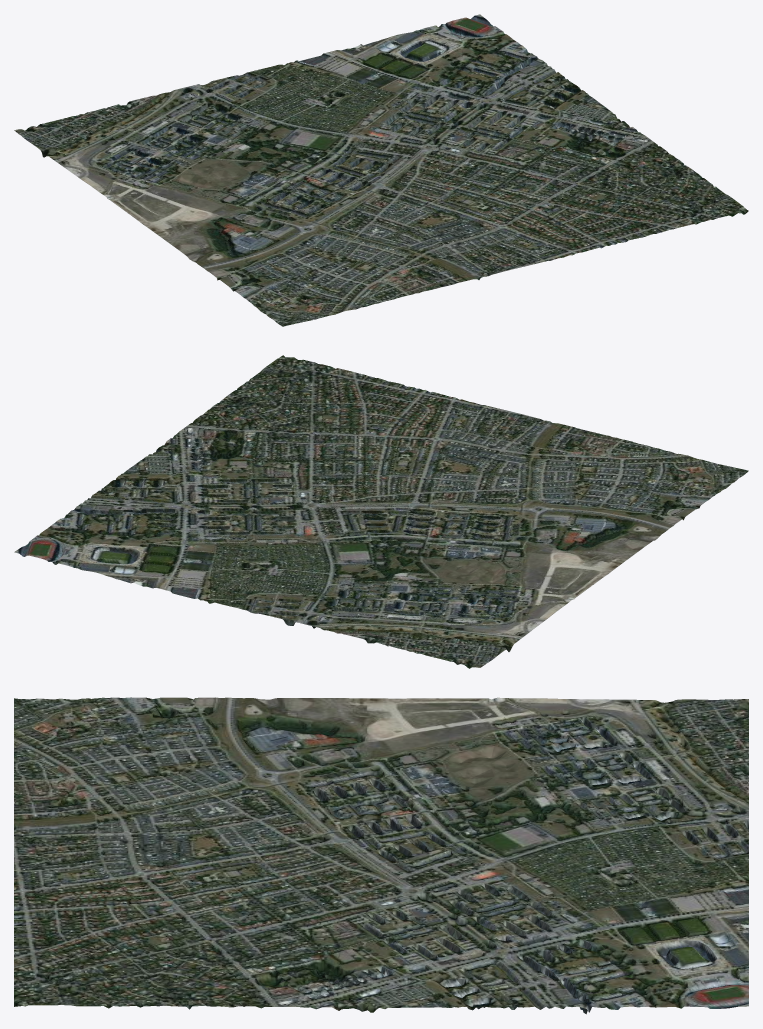
File: map_10_249_424.dae
The picture shows the model from 3 angles, top to bottom: view 1: azimuth 30°, elevation 25°; view 2: azimuth 150°, elevation 25°; view 3: azimuth 270°, elevation 25°; orthographic projection. The views are drawn at different scales.
Parts seen in each view (by area): view 1: Ter0; view 2: Ter0; view 3: Ter0.
Part boxes in pixels (x1,y1,x2,y2): Ter0: [14, 14, 748, 326]; Ter0: [14, 355, 748, 668]; Ter0: [14, 697, 748, 1014].
Bounding box in the file's own units: 2044 × 2044 × 48.45.
3 materials, 3 textured.
